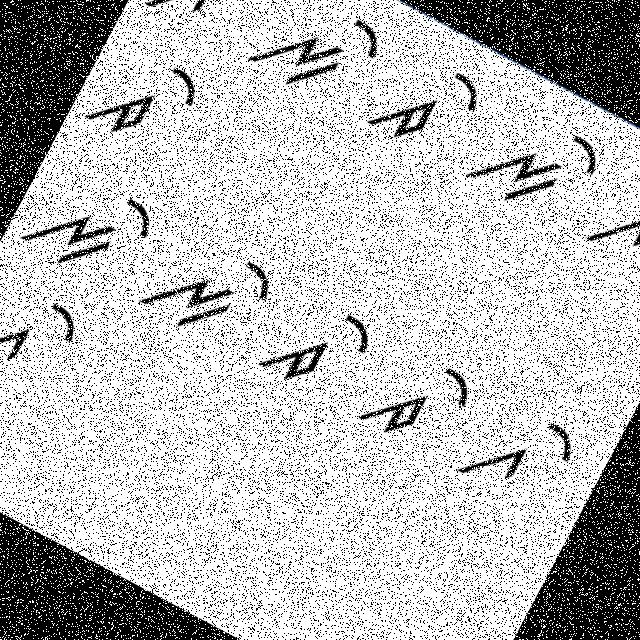gay: (447, 377, 591, 531), (0, 264, 90, 403), (578, 148, 639, 294), (135, 0, 275, 60)
ngay: (454, 88, 608, 240), (134, 217, 284, 362), (14, 156, 162, 301), (235, 0, 391, 124)
tay: (345, 328, 485, 473), (244, 280, 385, 422), (358, 35, 492, 175), (76, 30, 210, 166)
